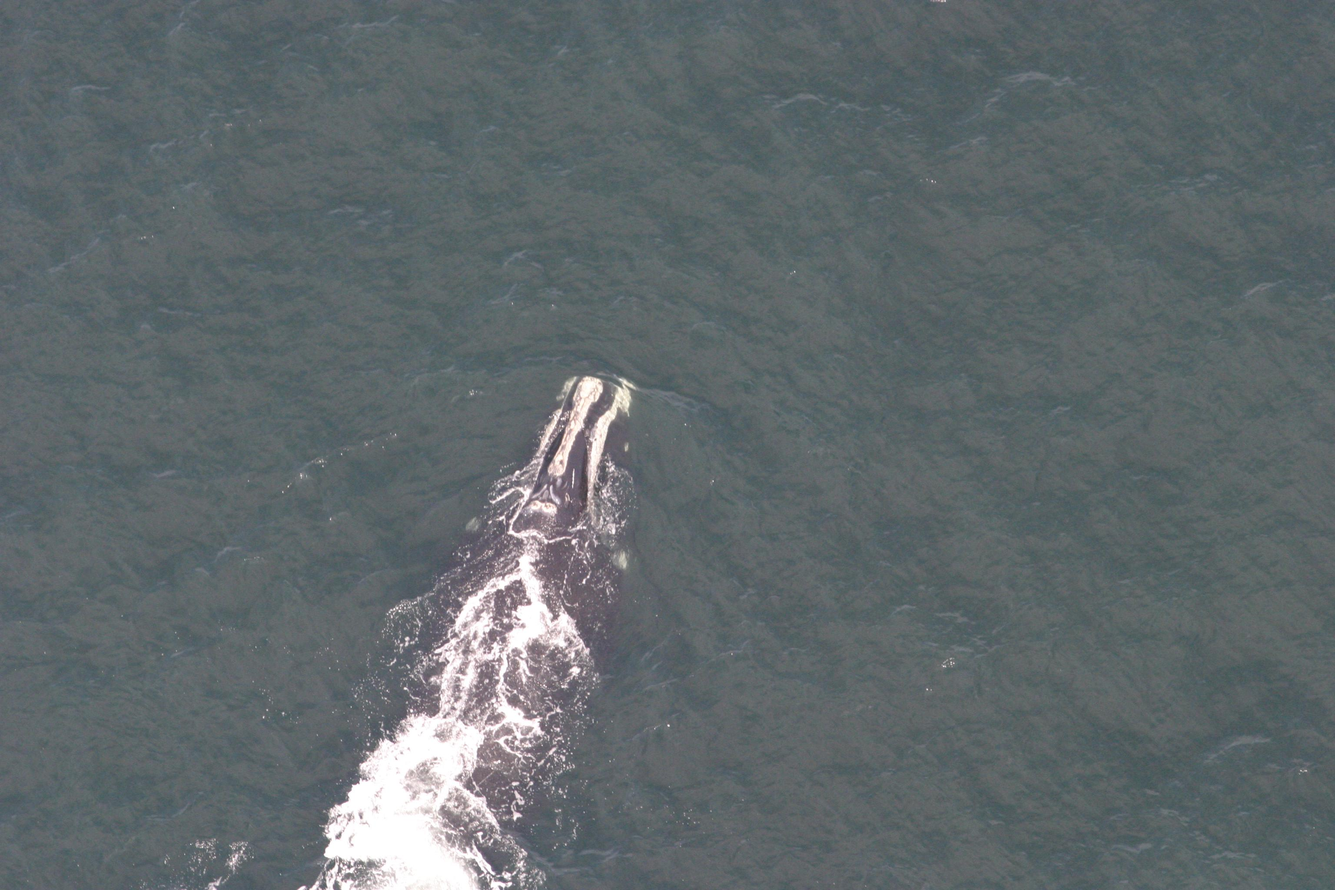whale: (308, 362, 700, 890)
